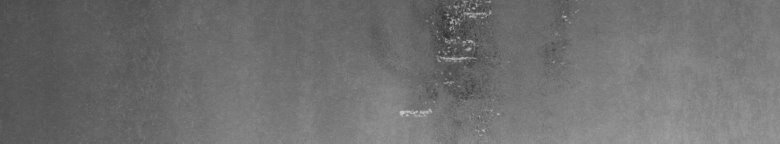hc: (399, 4, 576, 136)
